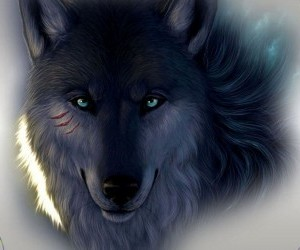Lobo: (5, 3, 234, 238)
